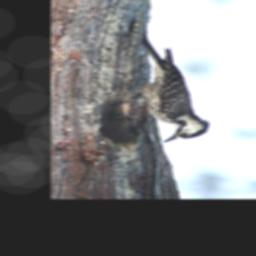Woodpecker: (112, 36, 211, 144)
